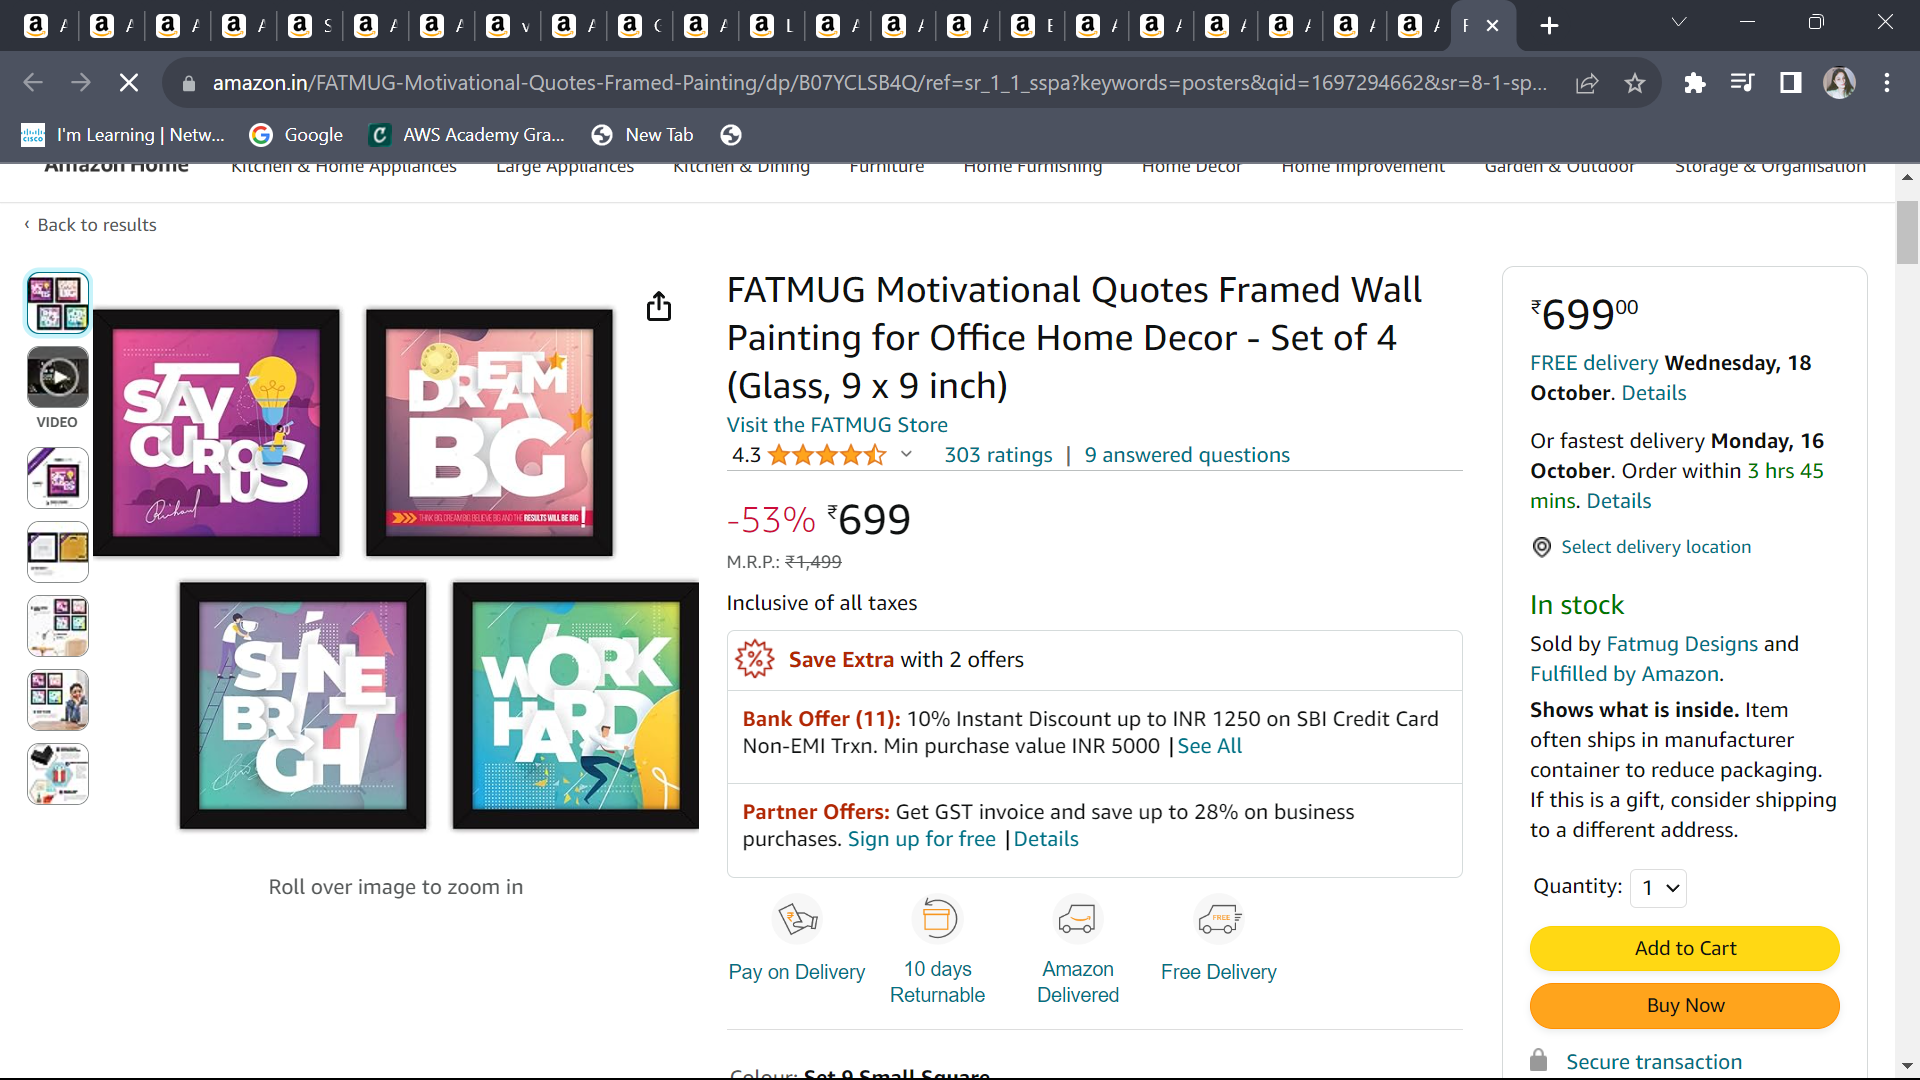Image: (78, 281, 704, 843)
Paragraph: (723, 257, 1478, 409), (725, 708, 1466, 843), (1514, 591, 1863, 855), (1511, 347, 1866, 531), (1509, 923, 1884, 1051), (708, 400, 1362, 472), (720, 496, 1015, 621), (241, 833, 564, 938), (1451, 513, 1809, 579), (690, 628, 1063, 675), (1511, 281, 1774, 335), (1466, 862, 1696, 902)
